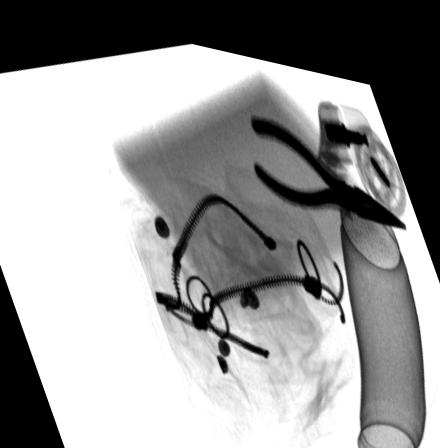Pliers: (248, 100, 407, 211)
